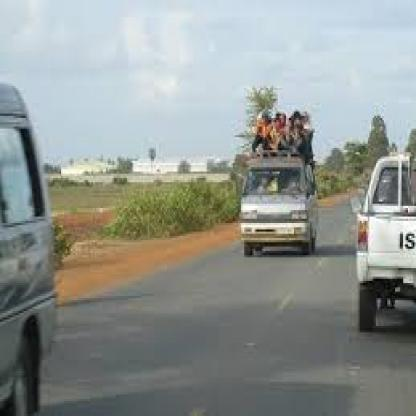car: (0, 66, 86, 416), (233, 100, 328, 274), (356, 127, 416, 344)
